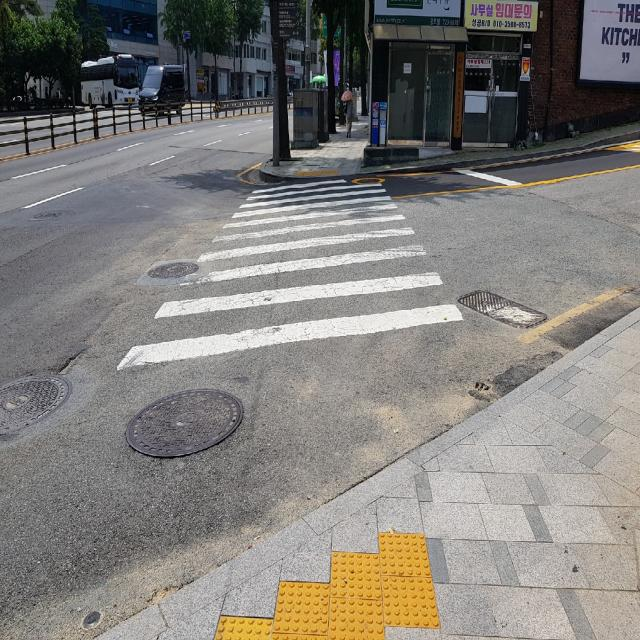횡단보도: (117, 180, 463, 370)
